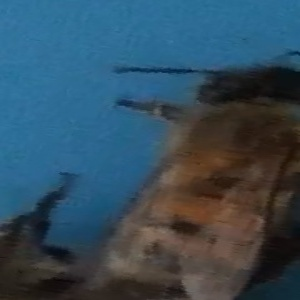bee: (113, 47, 300, 287)
